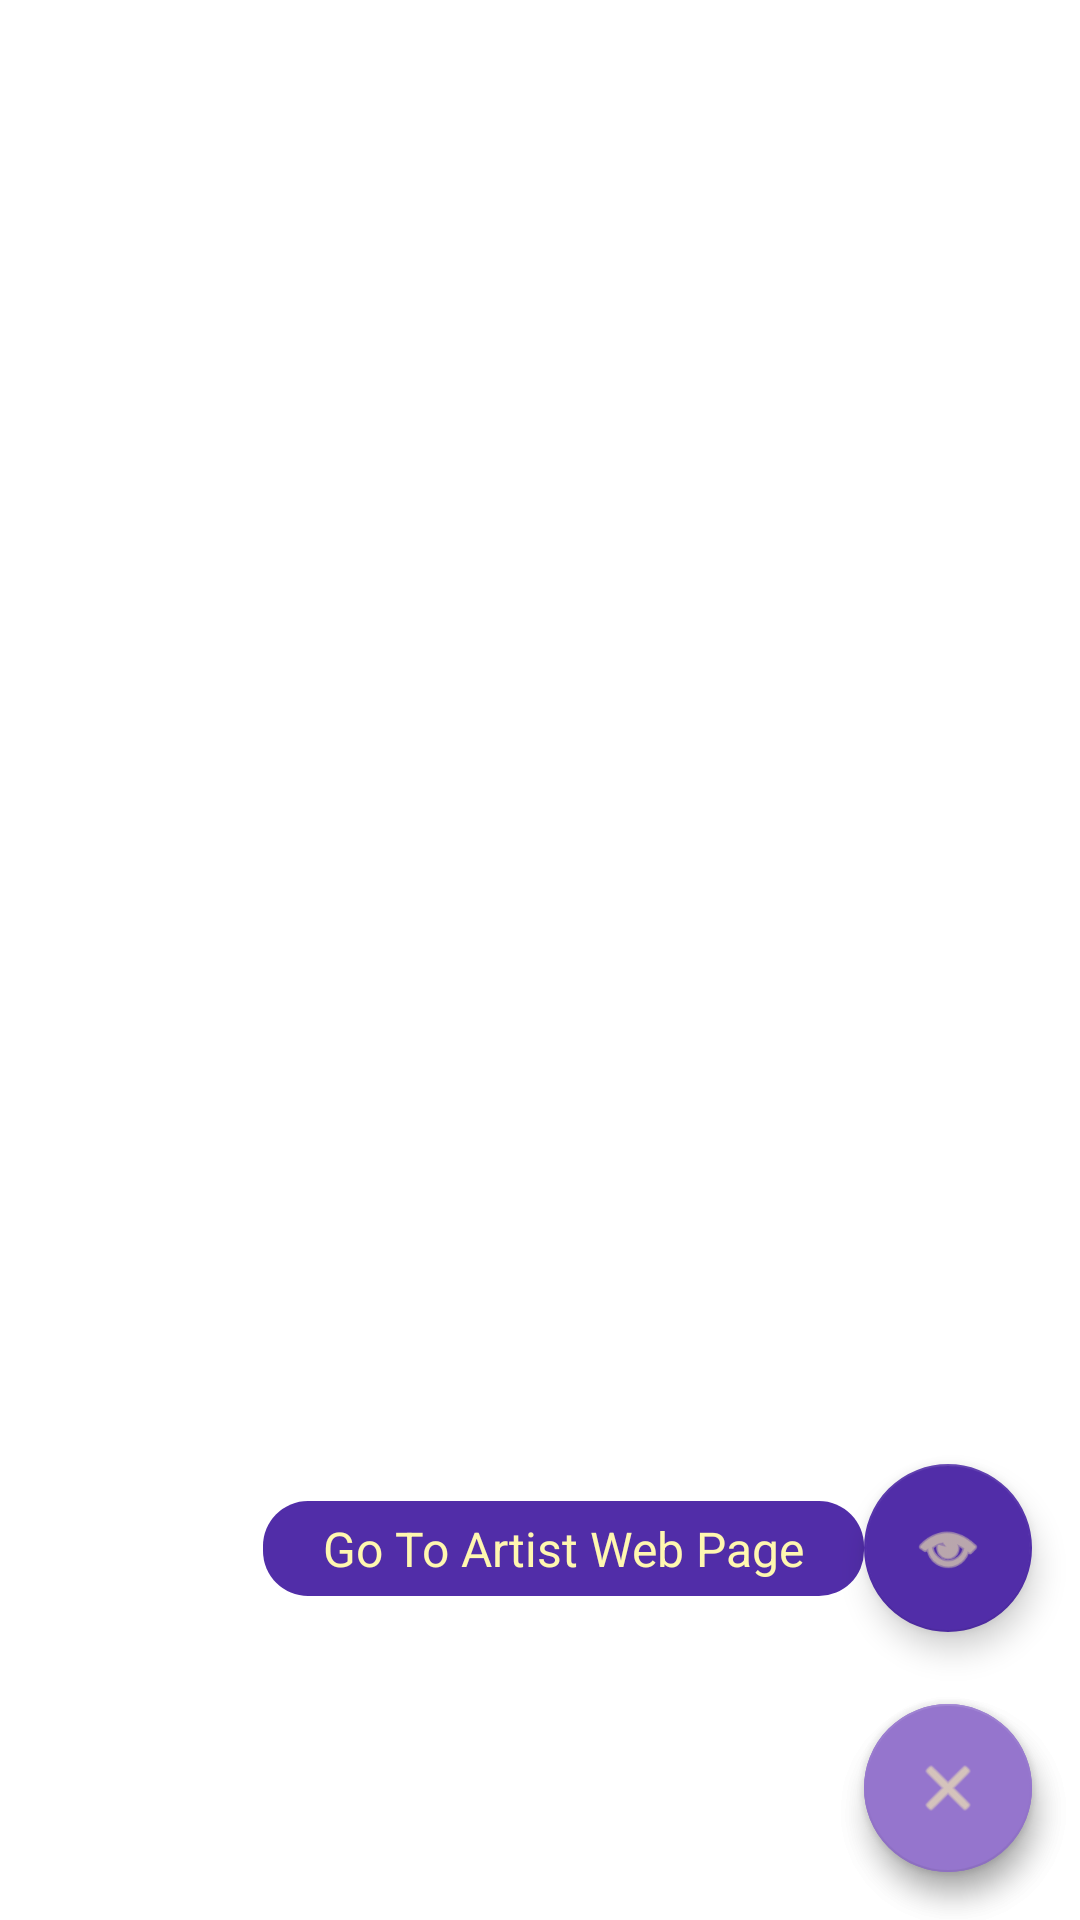

Where icons sit on this 1080w x 1920h app screen, as (x1, y1, x2, y2):
view: (864, 1464, 1032, 1632)
